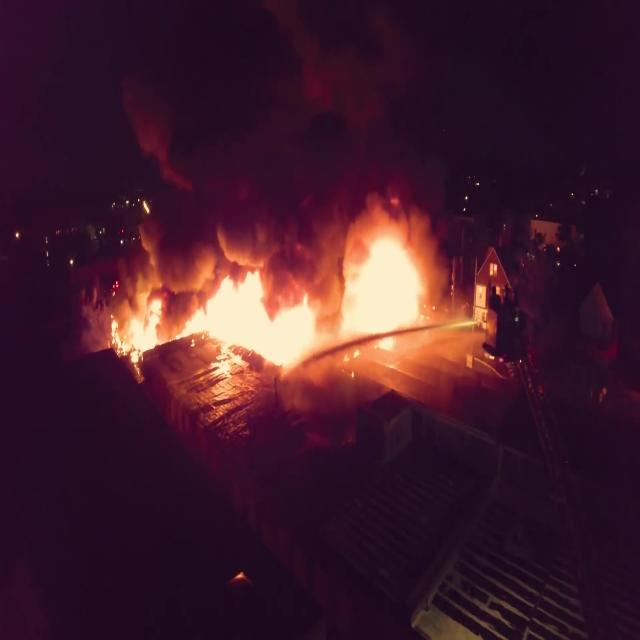Fire: (111, 242, 425, 362)
Smoke: (108, 2, 440, 262)
